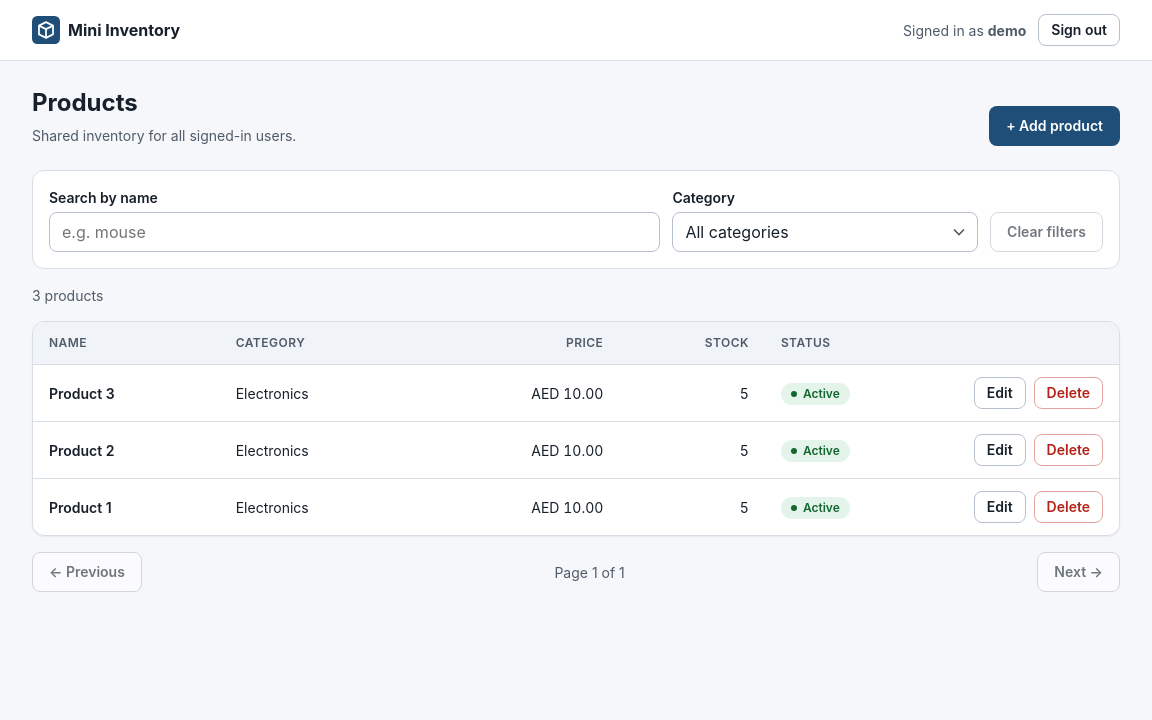
Test: logout › revokes the token, clears local state and cache
This screenshot has width=1152, height=720.
Expected: the text "Product 1" is shown, [33, 478, 220, 535]
Click the button "Sign out" at (1079, 30), box [1038, 14, 1120, 46]
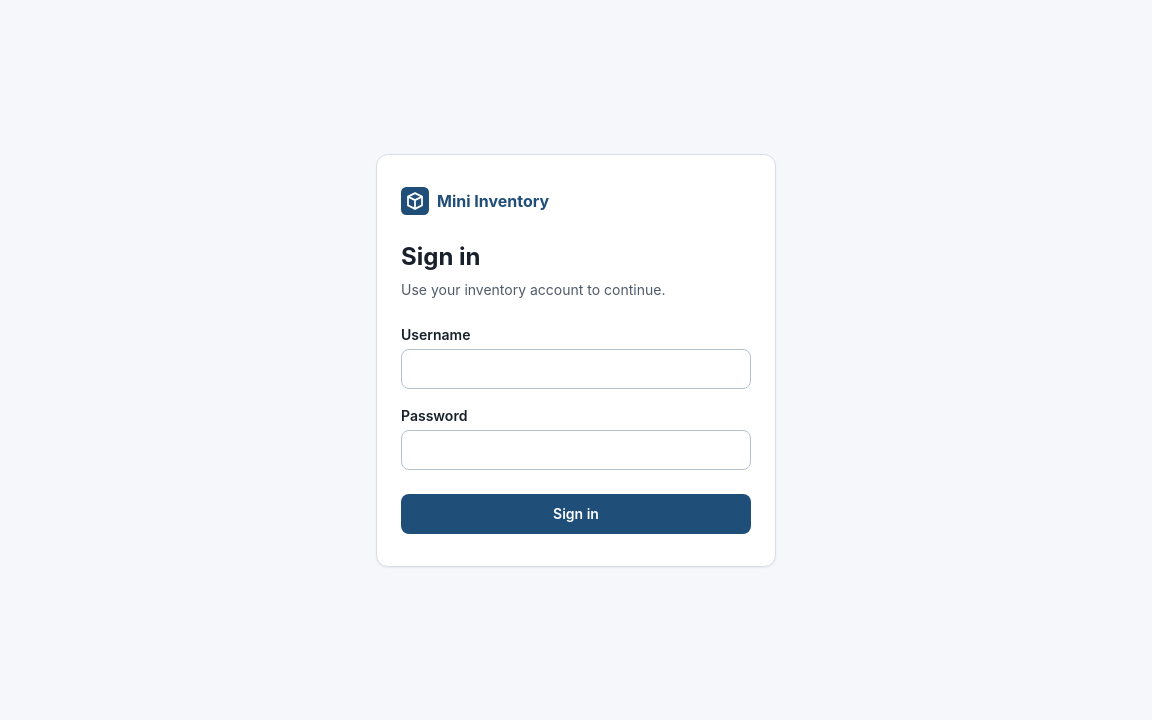
Now the heading "Sign in" is shown, box [401, 242, 480, 270]
